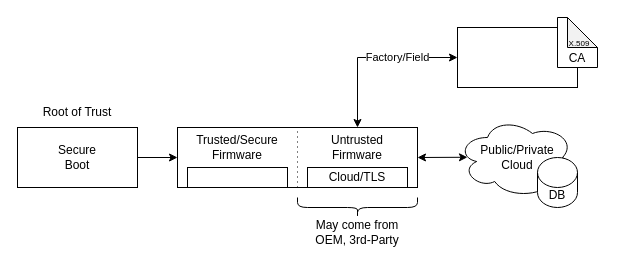
Image size: 635x265. Some labels were removed from this diagram. Each missing label, with the box of its shape:
Provisioning Server: (456, 26, 578, 88)
Sensitive Assets: (186, 166, 288, 188)
